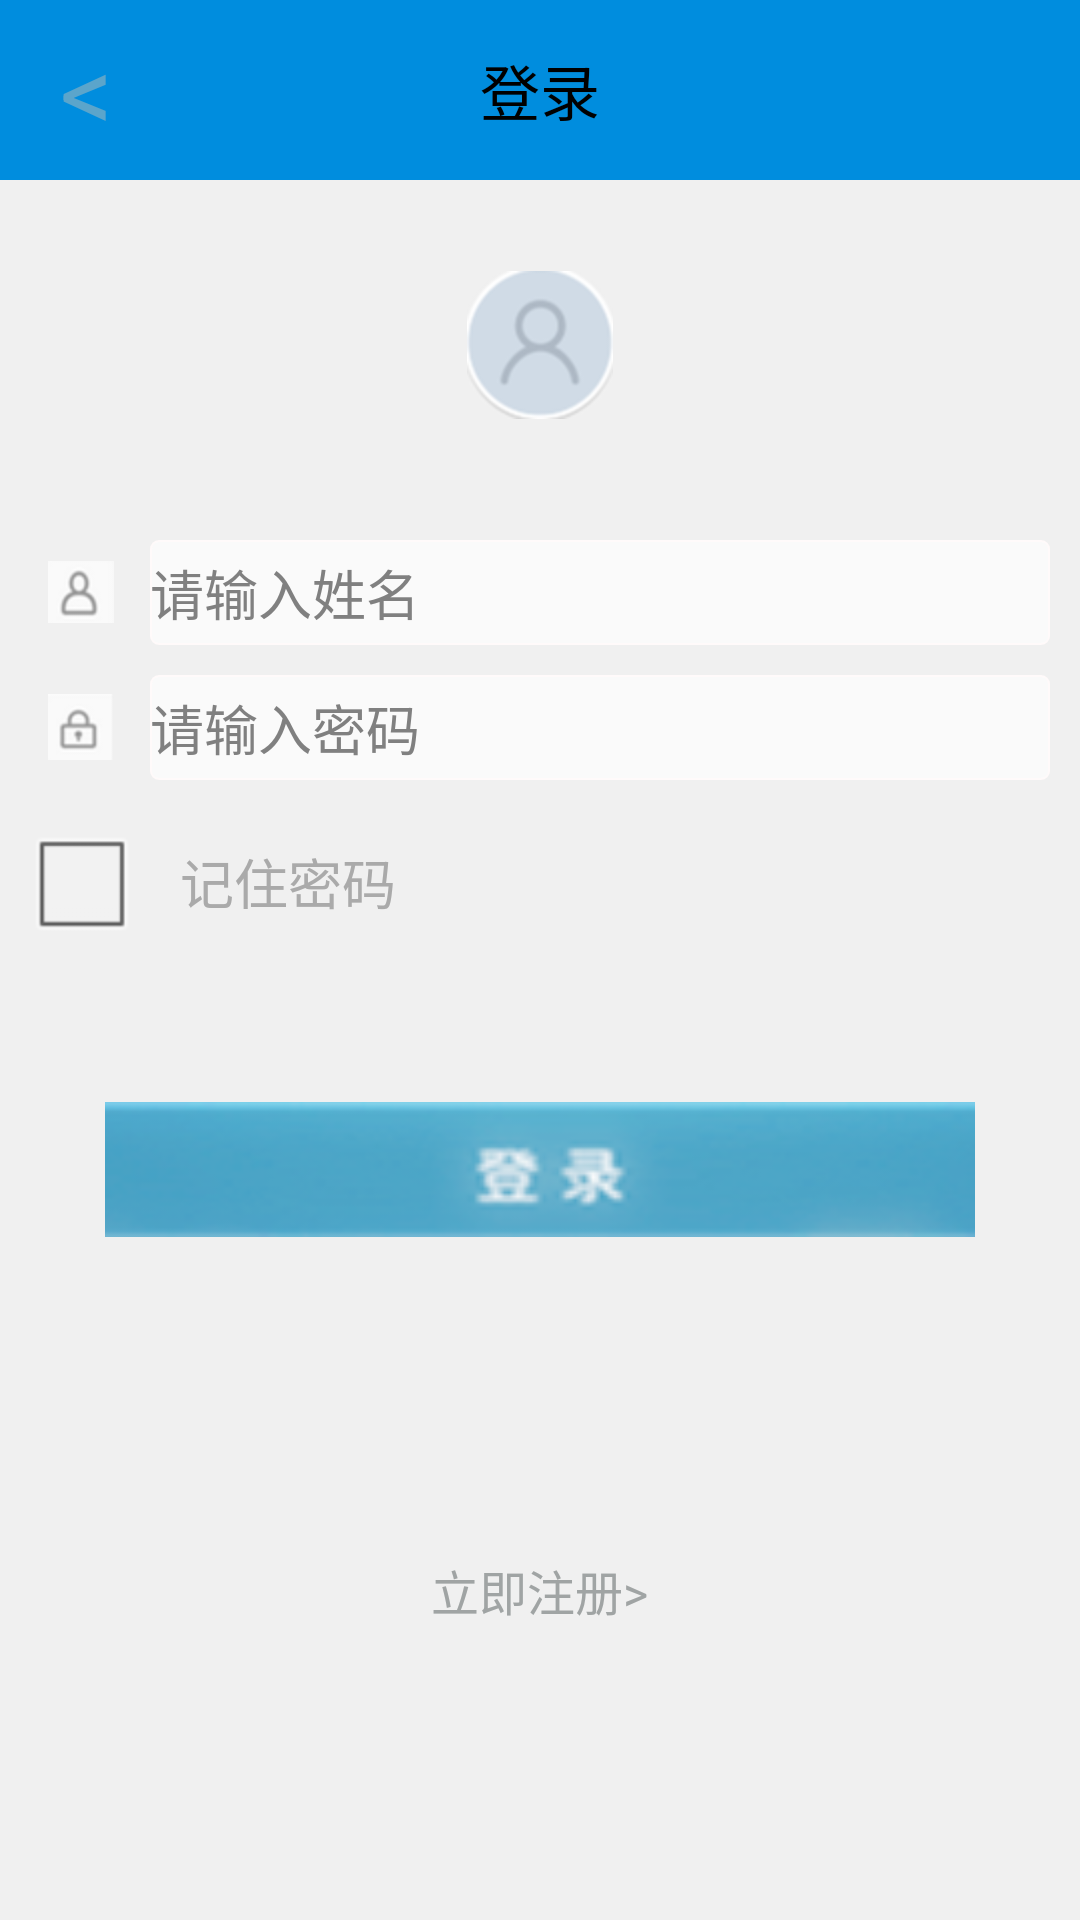

Where to tap for icons on this 1080x1920 app screen, as point (x, y):
用户输入姓名的图标: point (80, 592)
用户输入密码的图标: point (80, 727)
